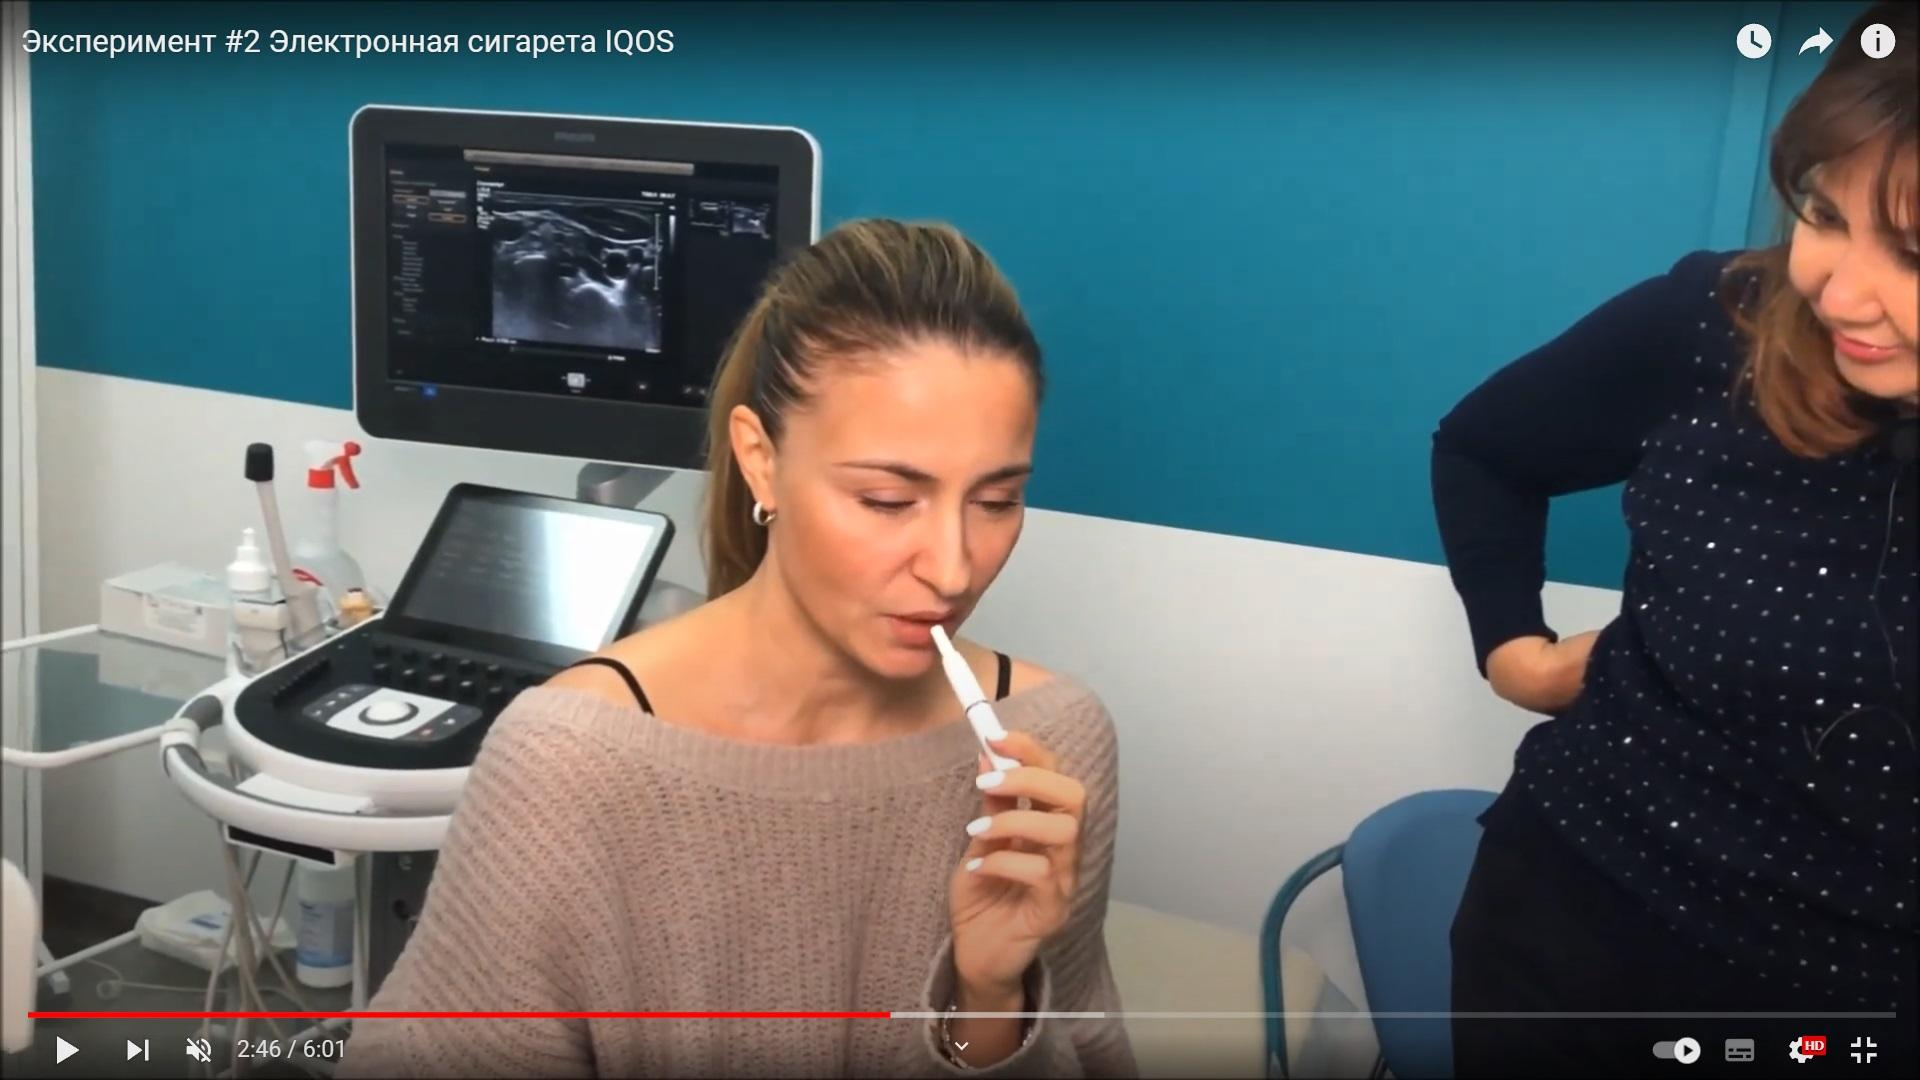iqos: (930, 624, 1022, 771)
